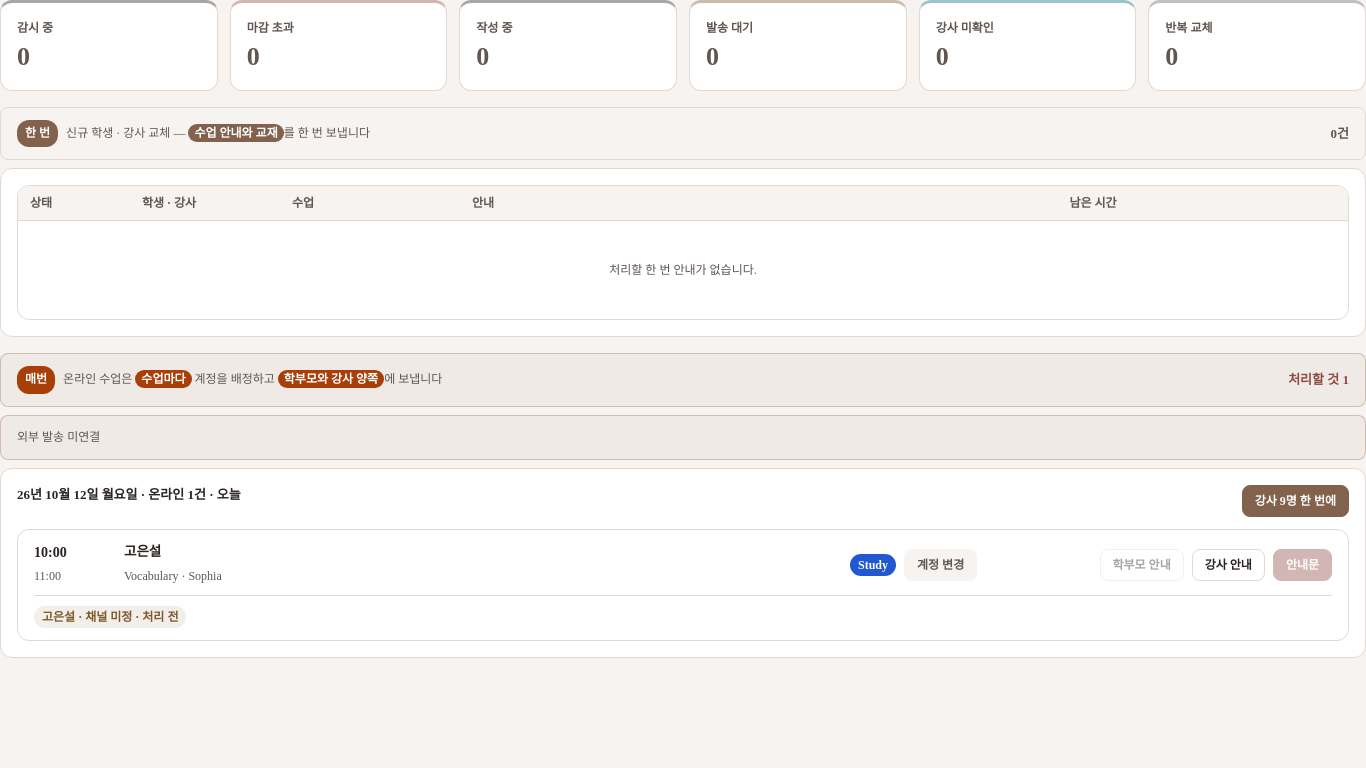
「강사 N명 한 번에」의 N 은 서버 zoomBatch 그대로이고, 누르면 입력 없이 한 번 부른 뒤 결과를 서버 이유로 적는다 (§43-6)
The image size is (1366, 768).
Click the button "강사 9명 한 번에".
click(1295, 501)  # box x1=1242 y1=485 x2=1349 y2=517
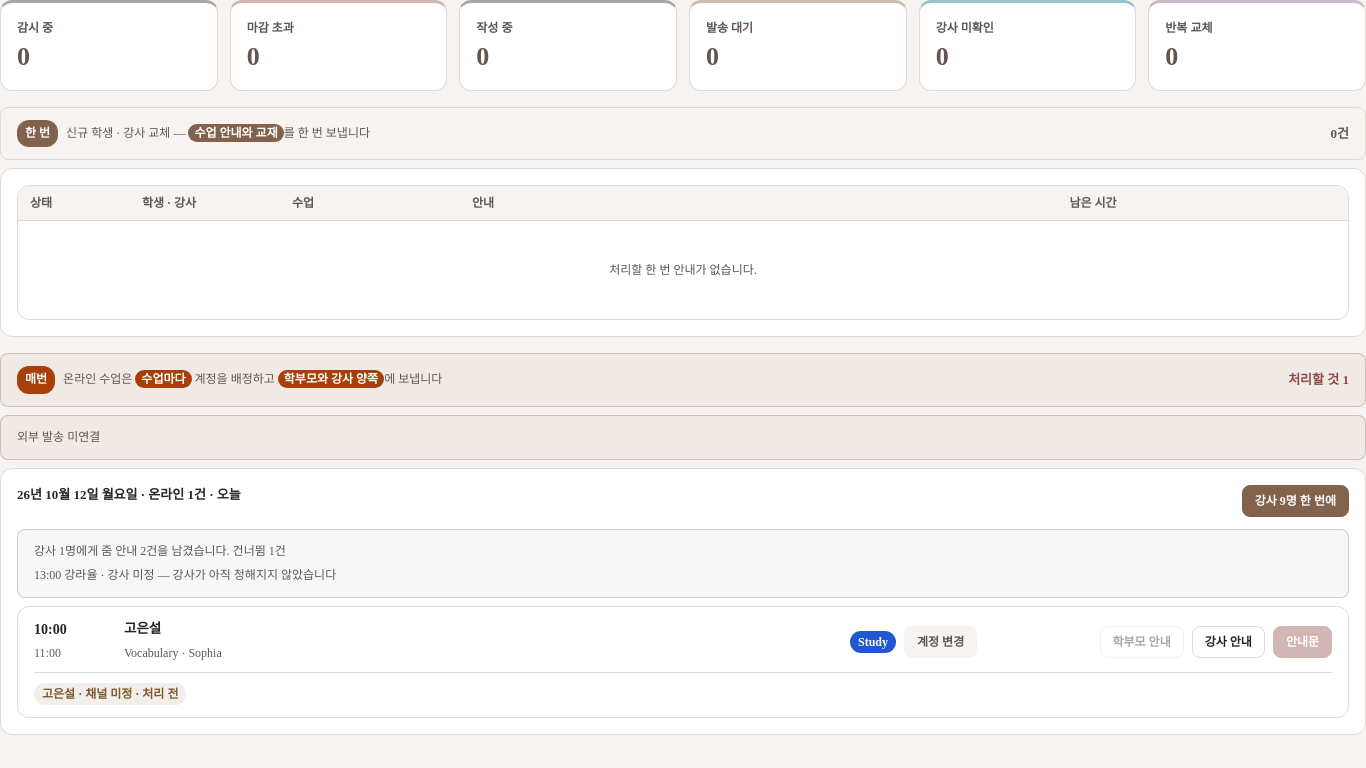
expect the message with test id "zoom-batch-result" shows "강사 1명에게 줌 안내 2건을 남겼습니다": met, box x1=34 y1=544 x2=230 y2=558
expect the message with test id "zoom-batch-result" shows "건너뜀 1건": met, box x1=230 y1=544 x2=286 y2=558
expect the list item "13:00 강라율 · 강사 미정 — 강사가 아직 정해지지 않았습니다" is shown: met, box x1=34 y1=568 x2=336 y2=582
